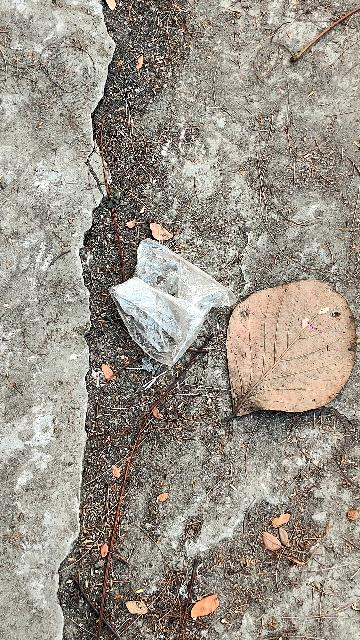polythene: (97, 213, 244, 362)
